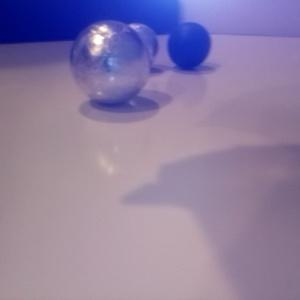alive_ball: (69, 21, 151, 103), (121, 23, 160, 67)
dead_ball: (166, 22, 212, 68)
